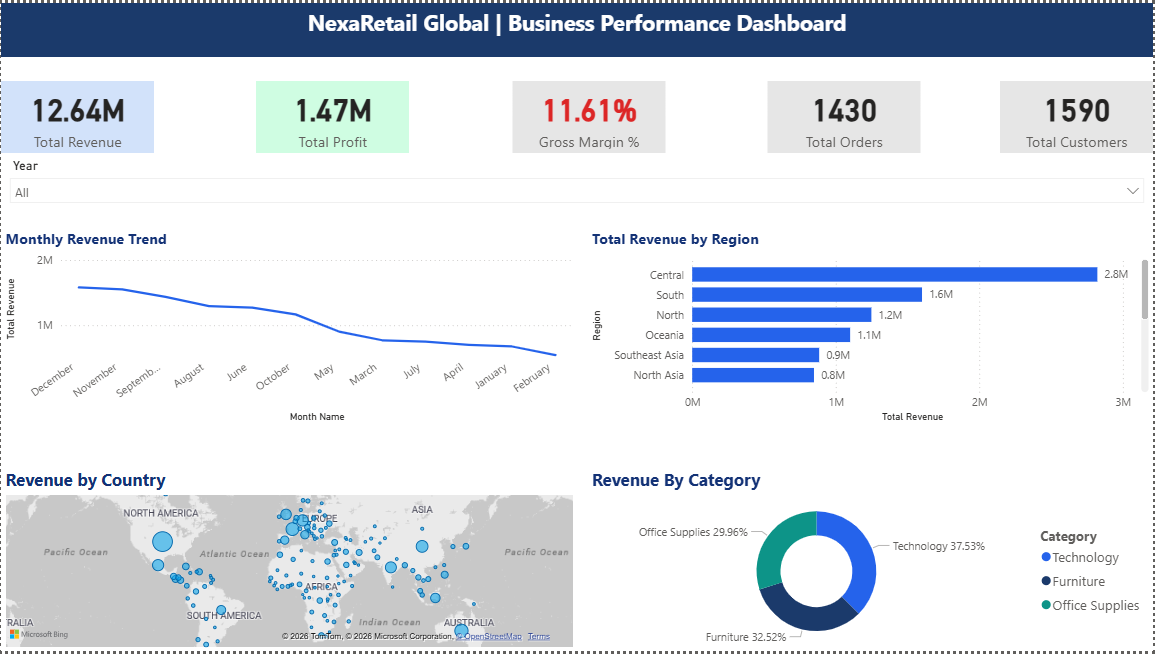

This screenshot's page, from the dashboard's own definition file:
{"tool":"powerbi","page":{"name":"Executive Overview","canvas":[1280,720],"ordinal":0},"visuals":[{"type":"textbox","box":[0,0,1280,60],"z":0},{"type":"card","fields":{"Values":["_Measures.Total Revenue"]},"box":[0,86.7,170,80],"z":1000},{"type":"card","fields":{"Values":["_Measures.Total Customers"]},"box":[1110,86.7,170,80],"z":2000},{"type":"card","fields":{"Values":["_Measures.Total Orders"]},"box":[852.5,86.7,170,80],"z":3000},{"type":"card","fields":{"Values":["_Measures.Gross Margin %"]},"box":[568.3,86.7,170,80],"z":4000},{"type":"card","fields":{"Values":["_Measures.Total Profit"]},"box":[284.2,86.7,170,80],"z":5000},{"type":"lineChart","title":"Monthly Revenue Trend","fields":{"Y":["_Measures.Total Revenue"],"Category":["DateTable.Month Name"]},"box":[0,250,640,220],"z":6000},{"type":"clusteredBarChart","title":"Total Revenue by Region","fields":{"Category":["orders_cleaned.Region"],"Y":["_Measures.Total Revenue"]},"box":[652,250,628,220],"z":7000},{"type":"map","title":"Revenue by Country","fields":{"Category":["orders_cleaned.Country"],"Size":["_Measures.Total Revenue"]},"box":[0,516,640,204],"z":8000},{"type":"donutChart","title":"Revenue By Category","fields":{"Category":["orders_cleaned.Category"],"Y":["_Measures.Total Revenue"]},"box":[652,516,628,204],"z":9000},{"type":"slicer","fields":{"Values":["DateTable.Year"]},"box":[0,166,1280,66],"z":10000}]}

Visuals, with their boxes in screenshot pixels (x1, y1, x2, y2), scaled from the page's 1280x720 canvas onto the 1155x654 screenshot:
textbox: bbox(0, 0, 1154, 54)
card - _Measures.Total Revenue: bbox(0, 79, 153, 151)
card - _Measures.Total Customers: bbox(1002, 79, 1154, 151)
card - _Measures.Total Orders: bbox(769, 79, 923, 151)
card - _Measures.Gross Margin %: bbox(513, 79, 666, 151)
card - _Measures.Total Profit: bbox(256, 79, 410, 151)
"Monthly Revenue Trend" lineChart: bbox(0, 227, 578, 427)
"Total Revenue by Region" clusteredBarChart: bbox(588, 227, 1154, 427)
"Revenue by Country" map: bbox(0, 469, 578, 653)
"Revenue By Category" donutChart: bbox(588, 469, 1154, 653)
slicer - DateTable.Year: bbox(0, 151, 1154, 211)
